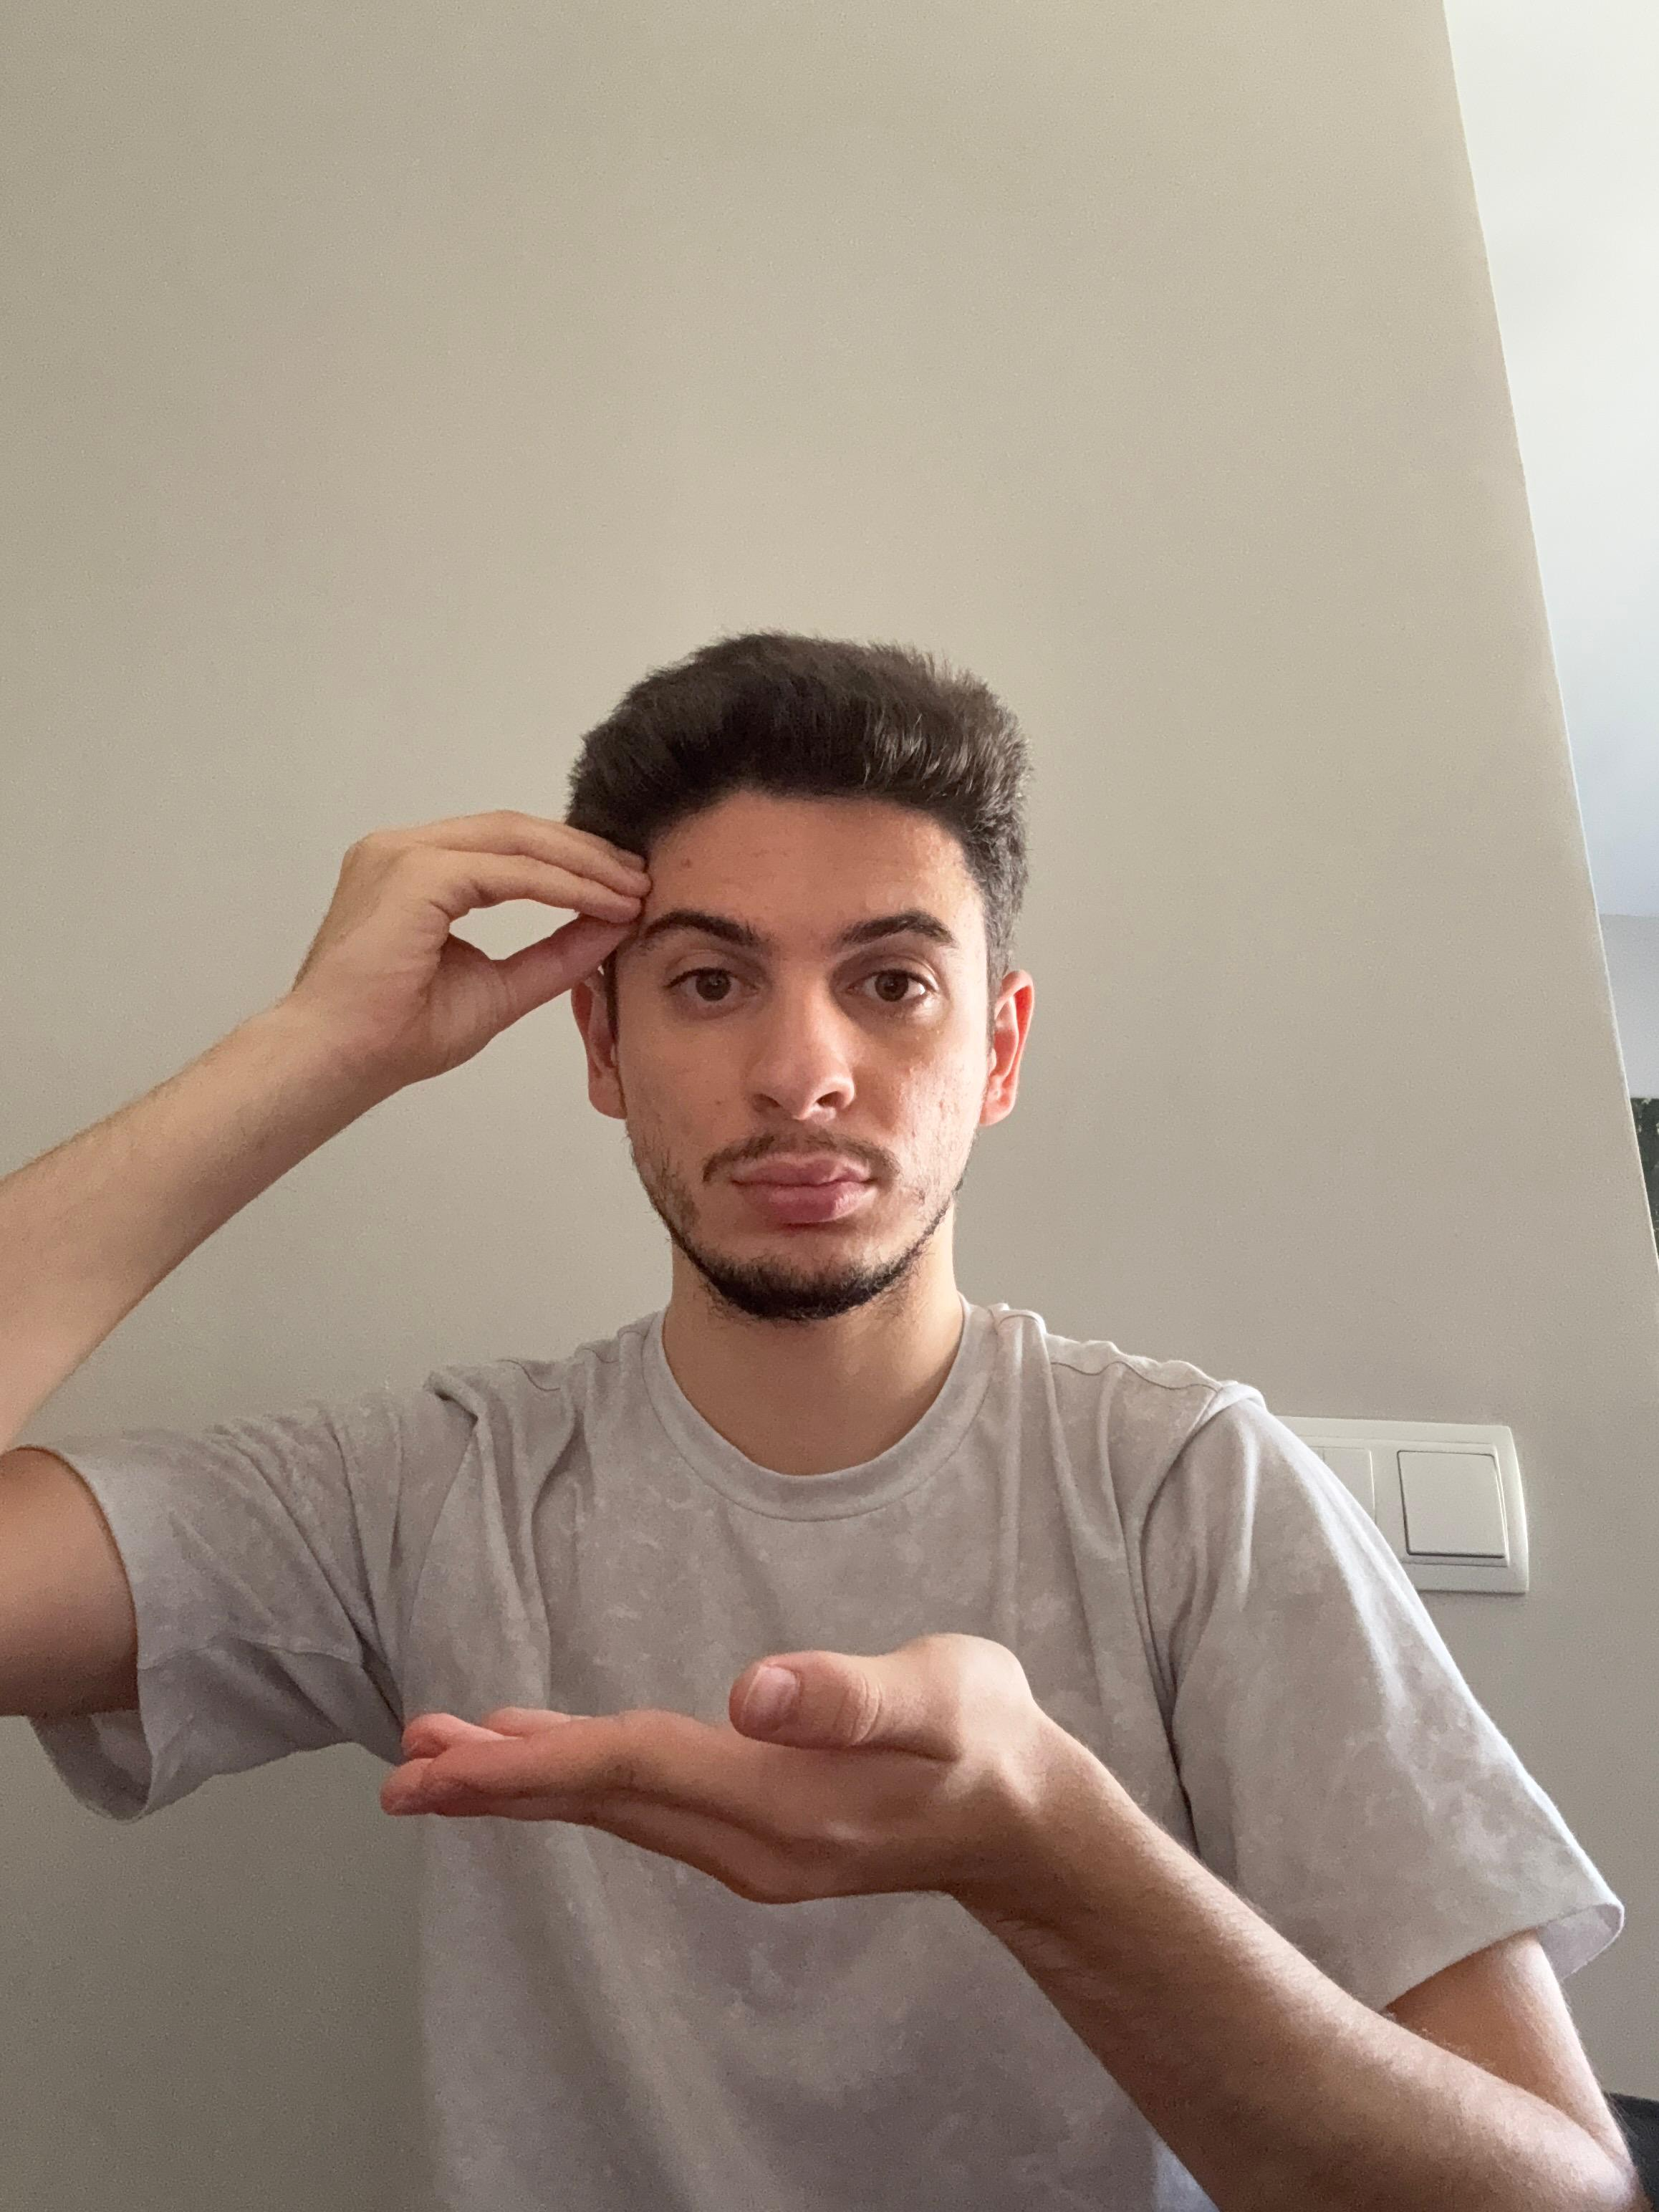learning: (7, 624, 1640, 2202)
